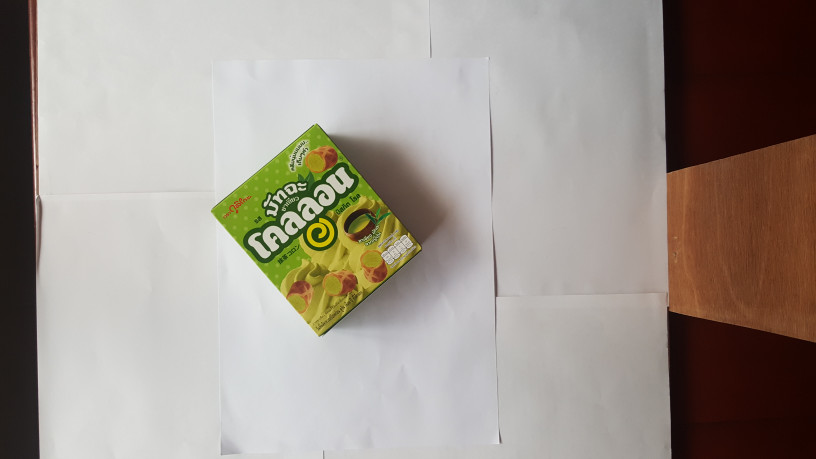collon-matcha: (210, 122, 422, 336)
